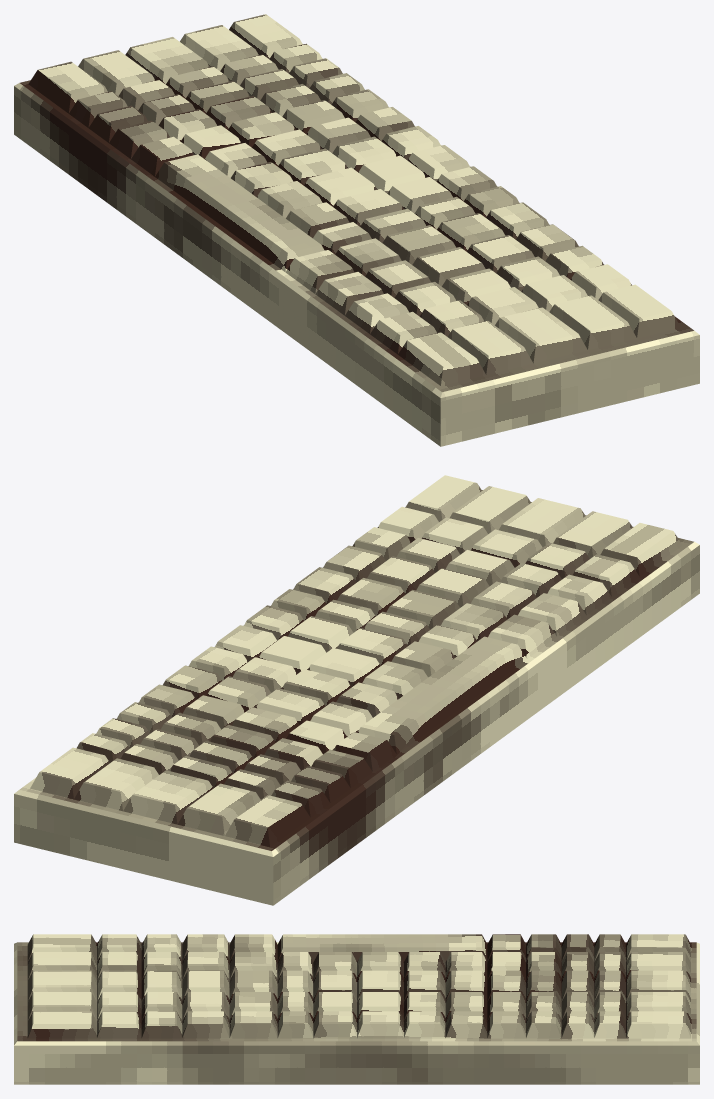
The model's file is Computer_Keyboard.glb.
The picture shows the model from 3 angles, top to bottom: view 1: azimuth 30°, elevation 25°; view 2: azimuth 150°, elevation 25°; view 3: azimuth 270°, elevation 25°; orthographic projection. The views are drawn at different scales.
Visible parts, largest first — view 1: keyboard; view 2: keyboard; view 3: keyboard.
Part boxes in pixels (box(x1,y1,x2,y2)): keyboard: box(14, 14, 699, 446); keyboard: box(14, 475, 699, 905); keyboard: box(14, 934, 699, 1084).
Bounding box in the file's own units: 0.3509 × 0.0876 × 1.
1 material, 1 textured.
